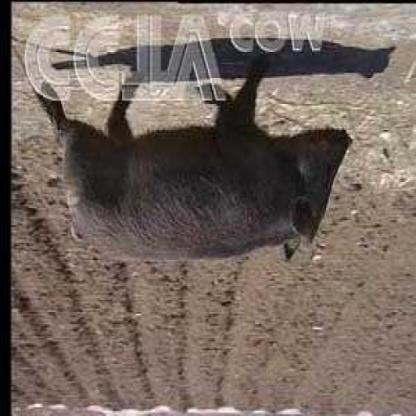boar: (0, 62, 384, 268)
